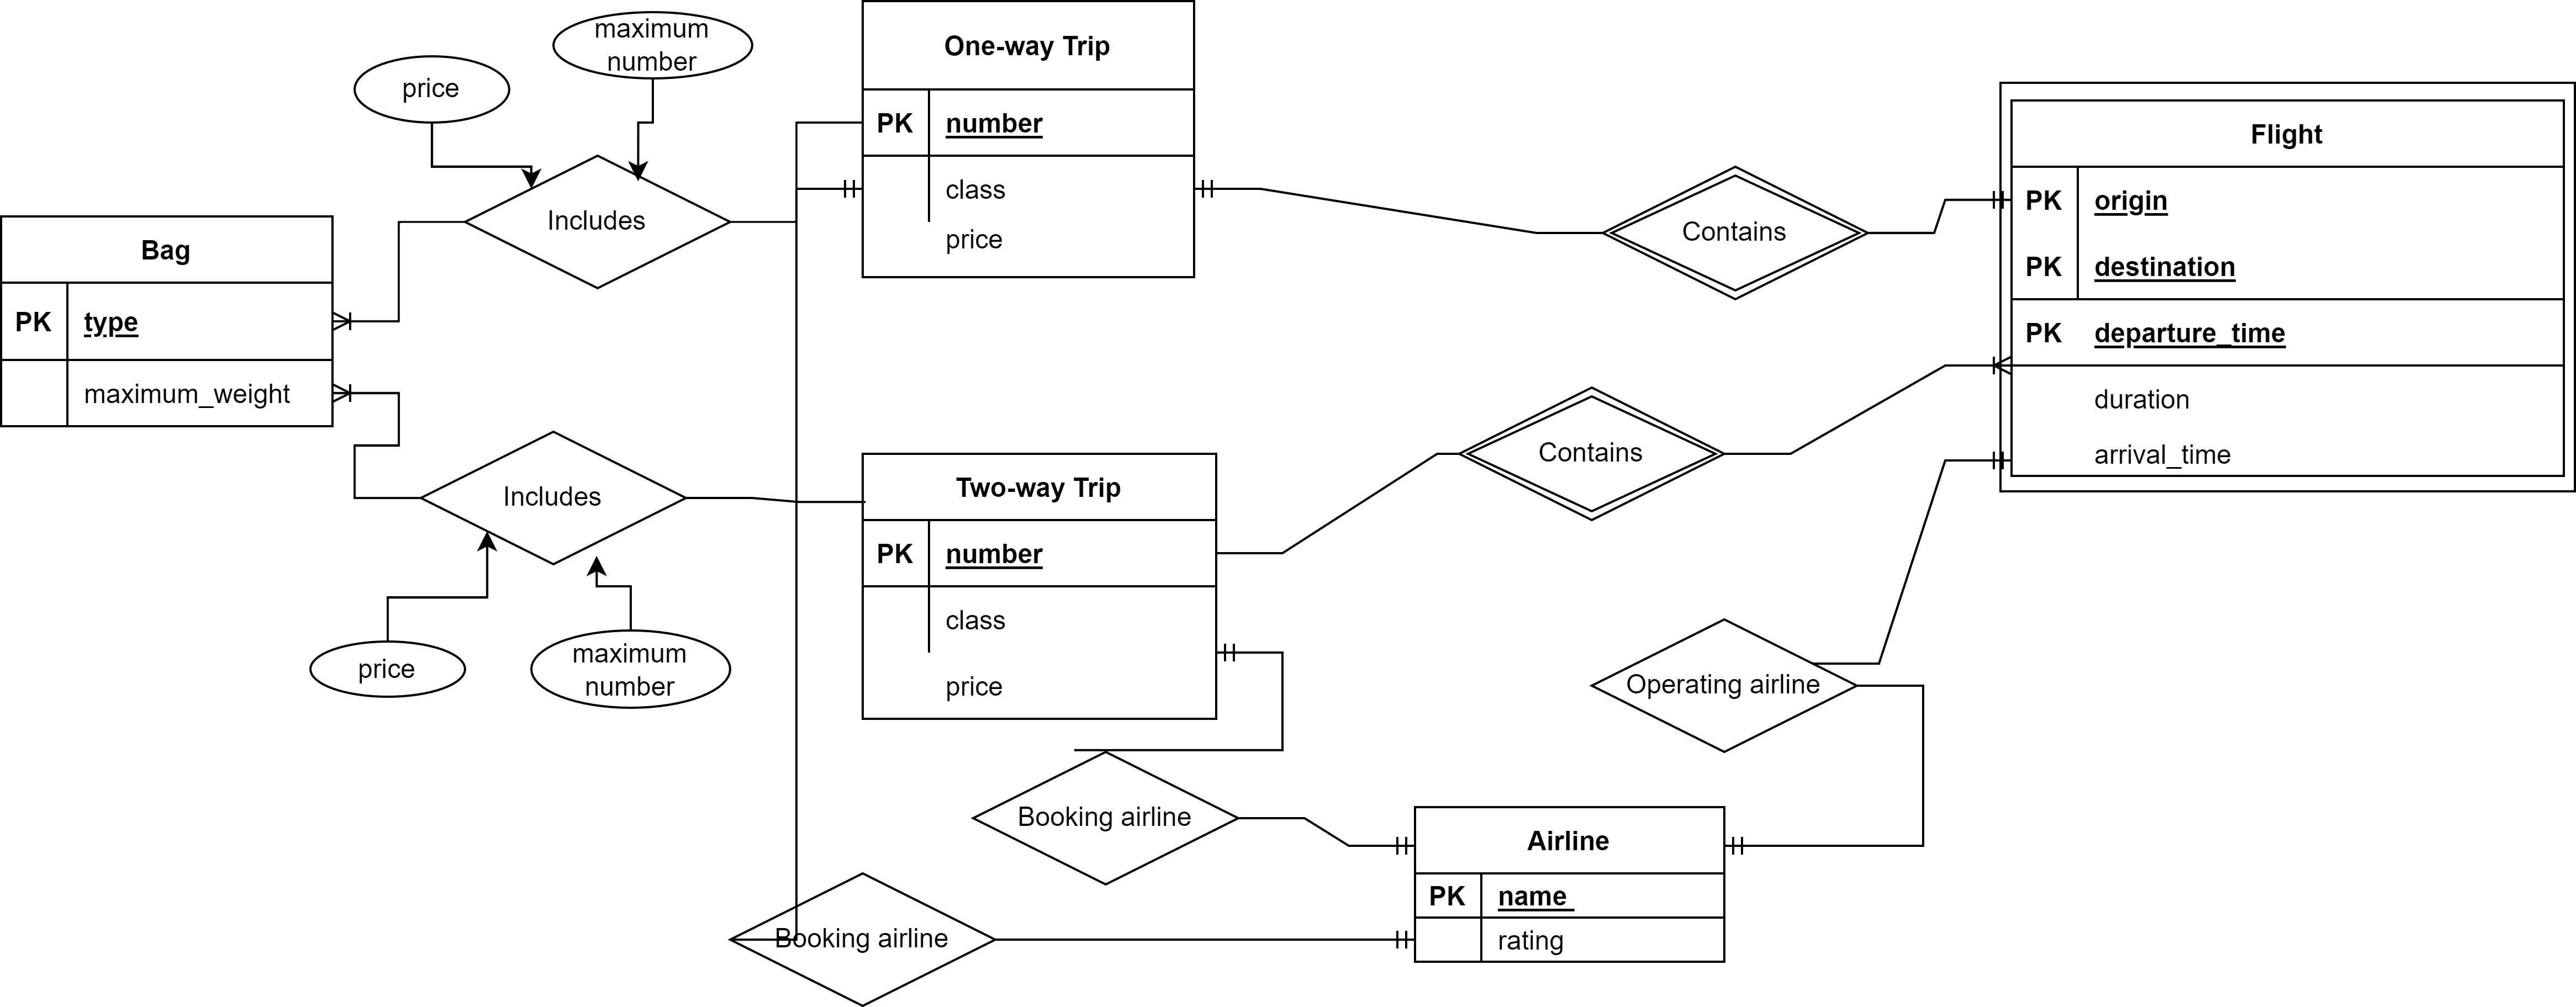entity: (859, 453, 1216, 718), (862, 0, 1199, 276), (0, 214, 333, 422), (1414, 802, 1727, 961)
ident_rel: (1605, 163, 1870, 302), (1462, 383, 1727, 521)
many: (330, 373, 399, 409), (1948, 350, 2017, 381), (329, 306, 399, 335)
one: (1214, 631, 1283, 675), (793, 169, 862, 207), (1194, 169, 1260, 207), (1945, 186, 2014, 218), (1940, 447, 2016, 475), (1359, 828, 1414, 862), (1725, 830, 1776, 862), (1357, 925, 1416, 953)
rel: (729, 867, 1000, 1007), (421, 427, 692, 565), (1592, 618, 1861, 754), (467, 154, 731, 291), (974, 751, 1237, 884)
rel_attr: (527, 624, 731, 716), (552, 10, 754, 80), (350, 54, 509, 128), (307, 636, 470, 701)
weak_entity: (2003, 74, 2576, 494)
